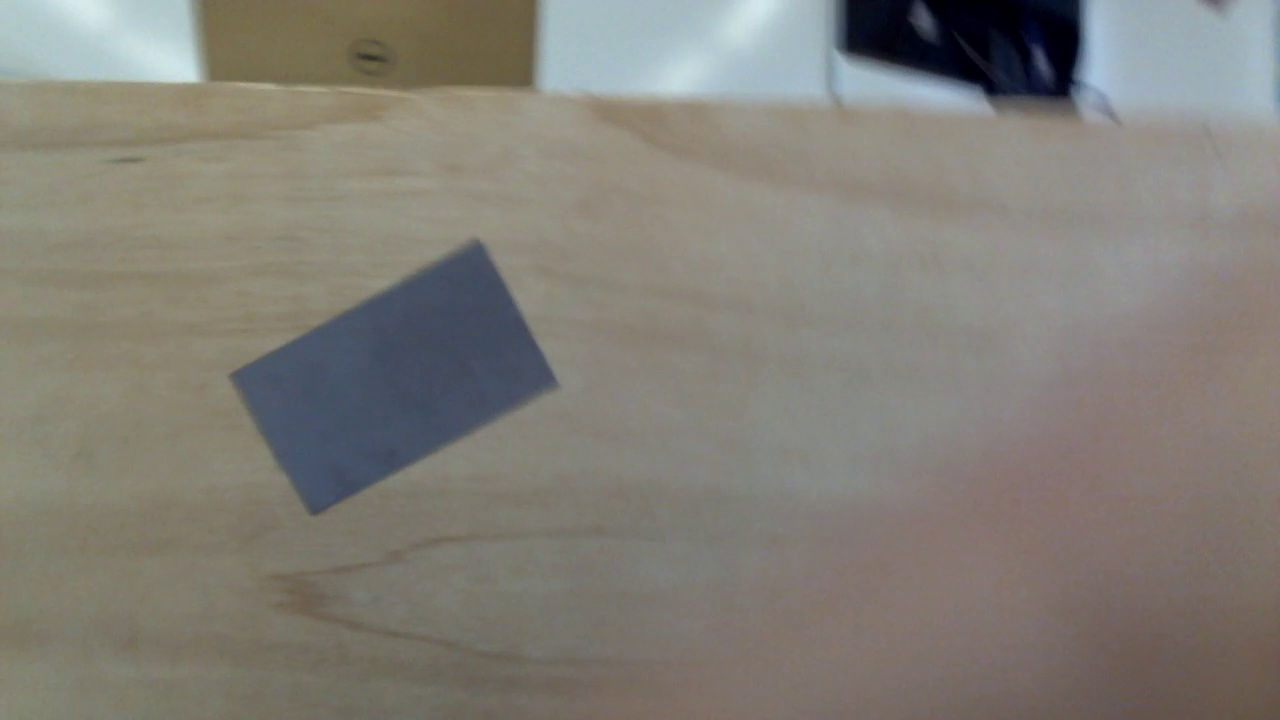Tape: (227, 243, 561, 519)
